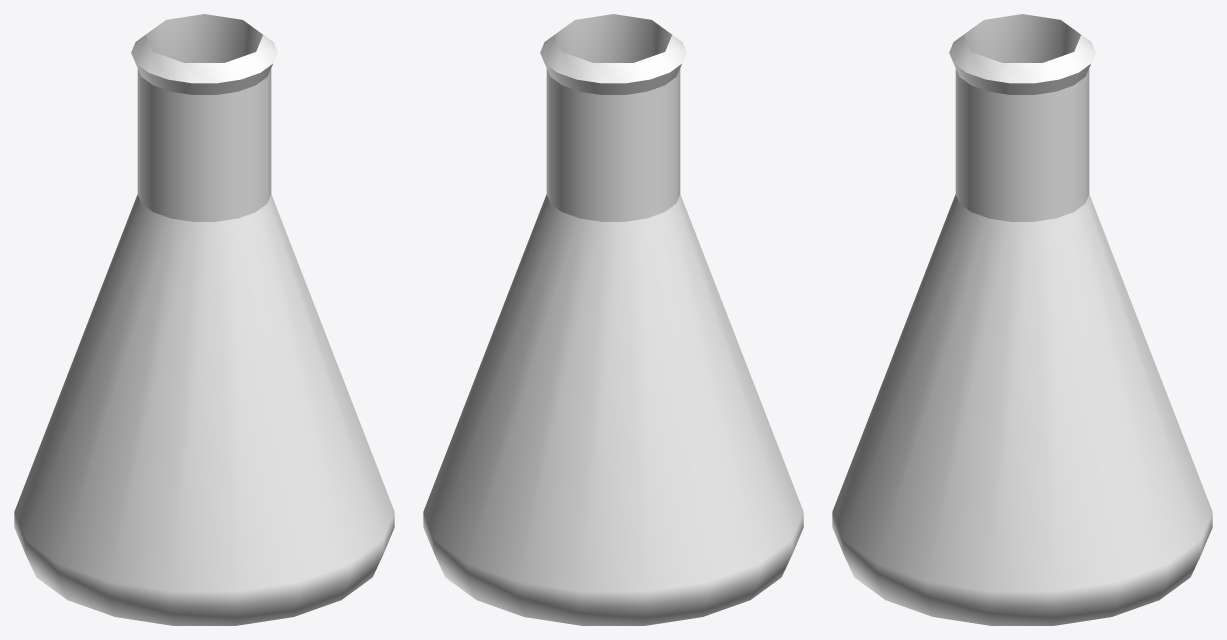
Rendered from Pfb_JLAB_Flask.fbx.
3 views of the same model, side by side, from view 1: azimuth 30°, elevation 25°; view 2: azimuth 150°, elevation 25°; view 3: azimuth 270°, elevation 25° (orthographic).
Visible parts, largest first — view 1: Glass; view 2: Glass; view 3: Glass.
Boxes of the visible parts, x1,y1,x2,y2 form: Glass: (14,14,394,625); Glass: (423,14,803,625); Glass: (832,14,1212,625).
Bounding box in the file's own units: 0.1568 × 0.2411 × 0.1592.
Materials: 1 (1 with a texture image).
